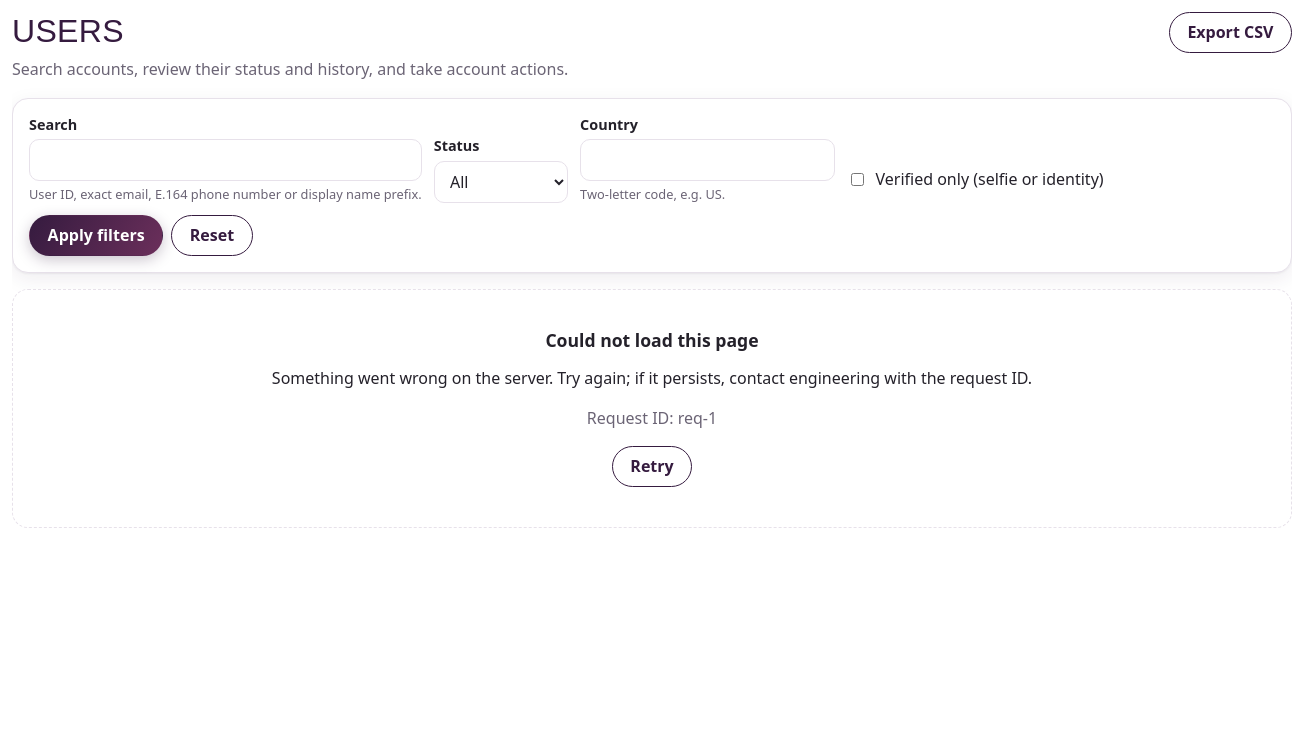
Test: UsersSearchPage › shows an error state with retry
Expected: the text "Something went wrong on the server. Try again; if it persists, contact engineering with the request ID." is shown, [272, 368, 1032, 390]
Click the button "Retry" at (652, 466), box [612, 446, 692, 487]
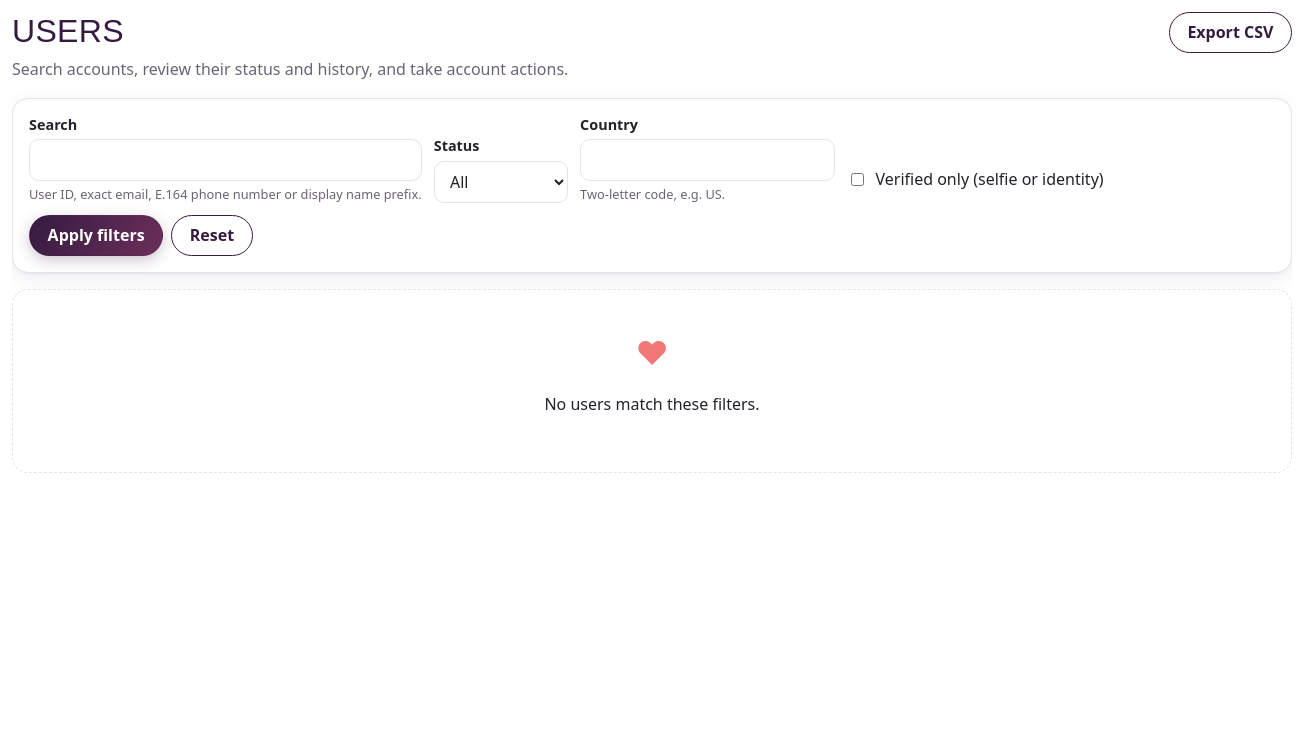
Result: the text "No users match these filters." is shown at [544, 393, 760, 415]
